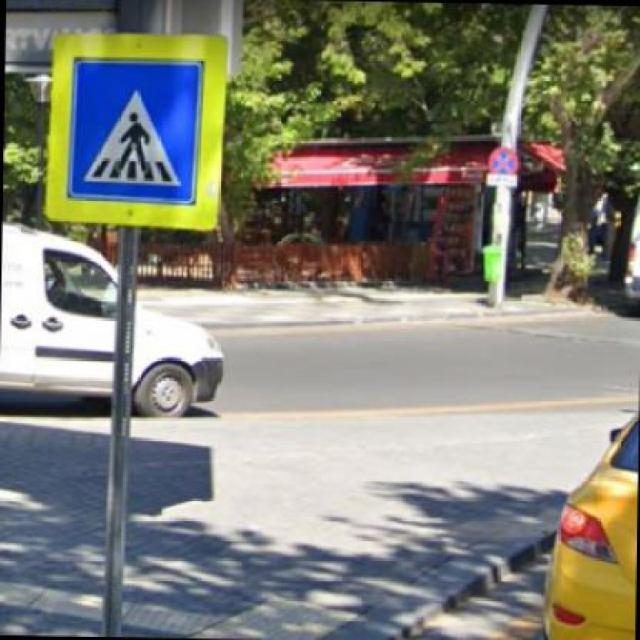yaya: (72, 64, 196, 196)
